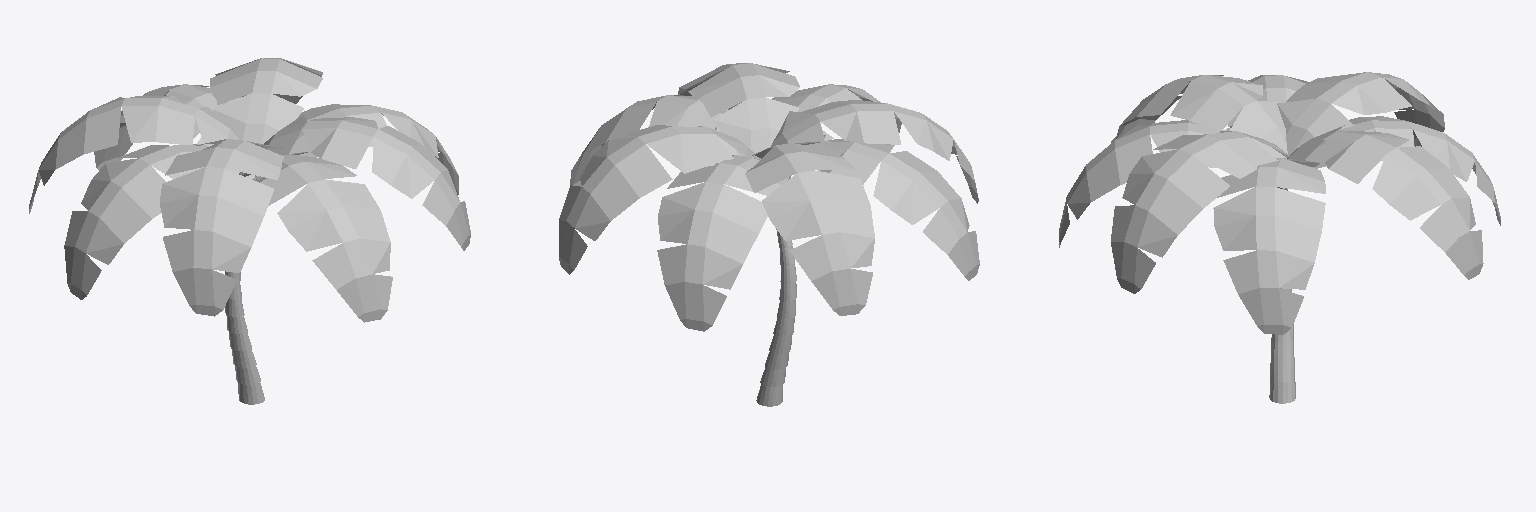
File: tre.obj
The picture shows the model from 3 angles: view 1: azimuth 30°, elevation 25°; view 2: azimuth 150°, elevation 25°; view 3: azimuth 270°, elevation 25°; orthographic projection.
Visible parts, largest first — view 1: Sphere.003; view 2: Sphere.003; view 3: Sphere.003.
Part boxes in pixels (x1,y1,x2,y2): Sphere.003: (29, 58, 470, 404); Sphere.003: (559, 63, 979, 406); Sphere.003: (1059, 72, 1500, 403).
Size of the model in its own units: 3.64 by 2.58 by 3.61.